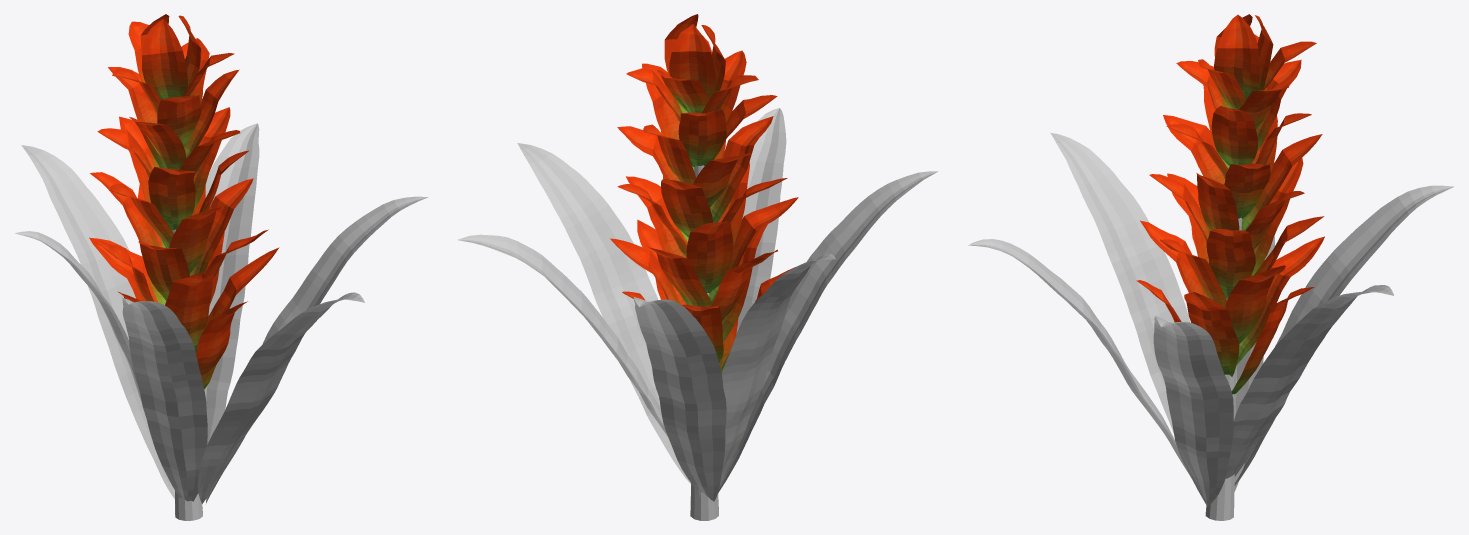
The model's file is sandyGrassRoot .fbx.
The picture shows the model from 3 angles, left to right: view 1: azimuth 30°, elevation 25°; view 2: azimuth 150°, elevation 25°; view 3: azimuth 270°, elevation 25°; orthographic projection. The views are drawn at different scales.
Visible parts, largest first — view 1: trop_flower_set_01; view 2: trop_flower_set_01; view 3: trop_flower_set_01.
Part boxes in pixels (x1,y1,x2,y2): trop_flower_set_01: (15, 14, 428, 520); trop_flower_set_01: (457, 14, 938, 520); trop_flower_set_01: (968, 14, 1453, 520).
Bounding box in the file's own units: 40.51 × 52.74 × 46.52.
